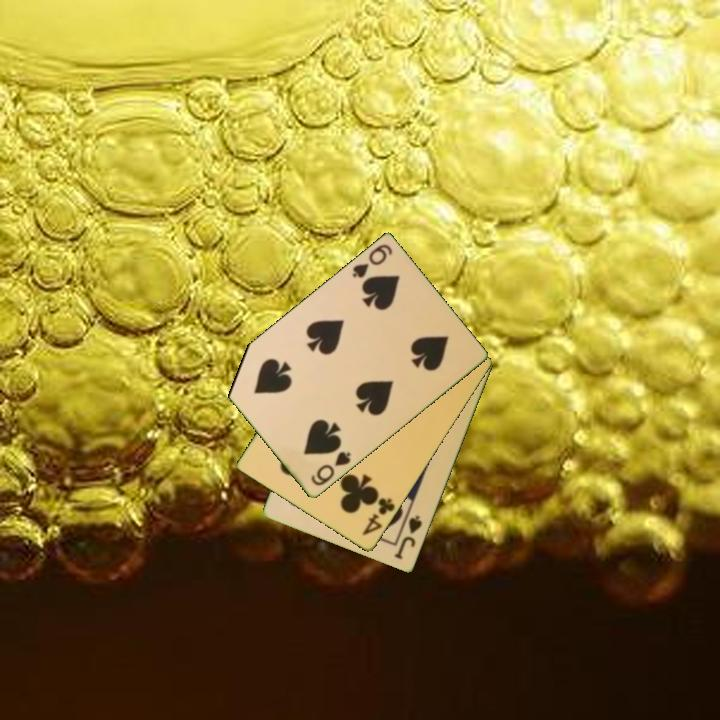4c: (359, 494, 398, 539)
6s: (307, 448, 354, 489), (348, 241, 395, 282)
Js: (391, 512, 425, 563)
